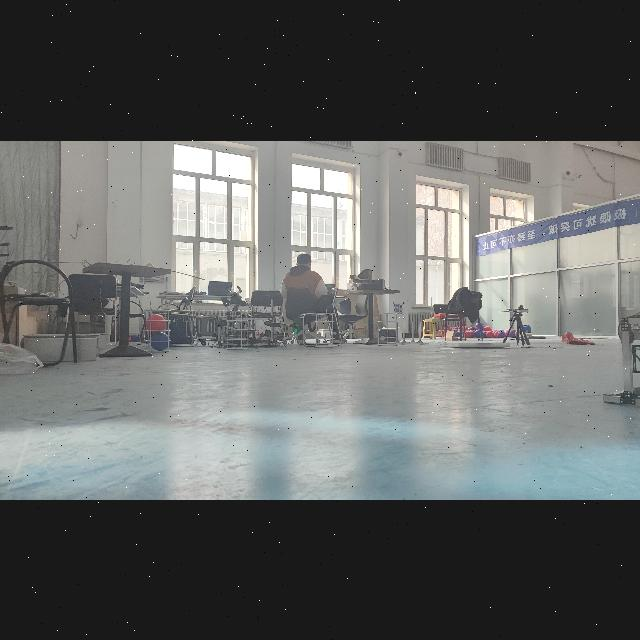B: (151, 332, 171, 350)
R: (146, 314, 168, 332)
S: (142, 307, 174, 355), (222, 308, 250, 352), (312, 310, 336, 350), (375, 310, 399, 348)
